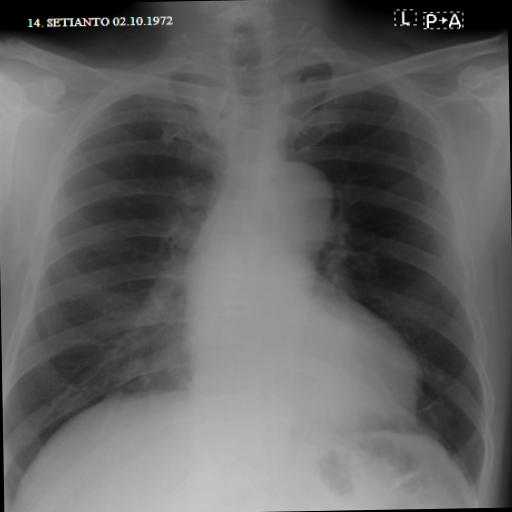kardiomegali: (0, 30, 497, 498)
